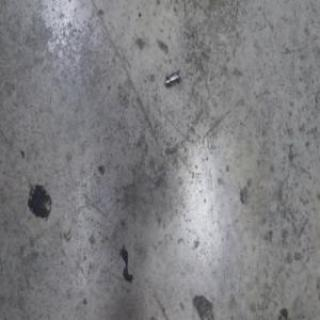Bolttrack_idkeyframe: (164, 68, 180, 88)
